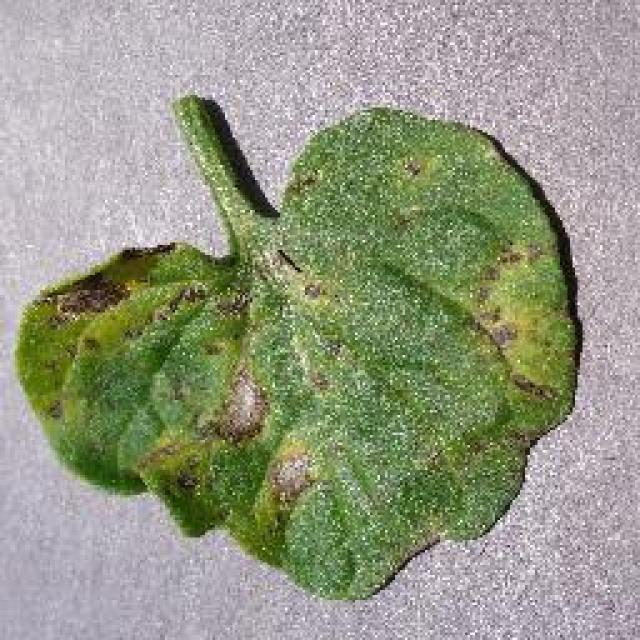Tomato___Septoria_leaf_spot: (18, 95, 575, 598)
